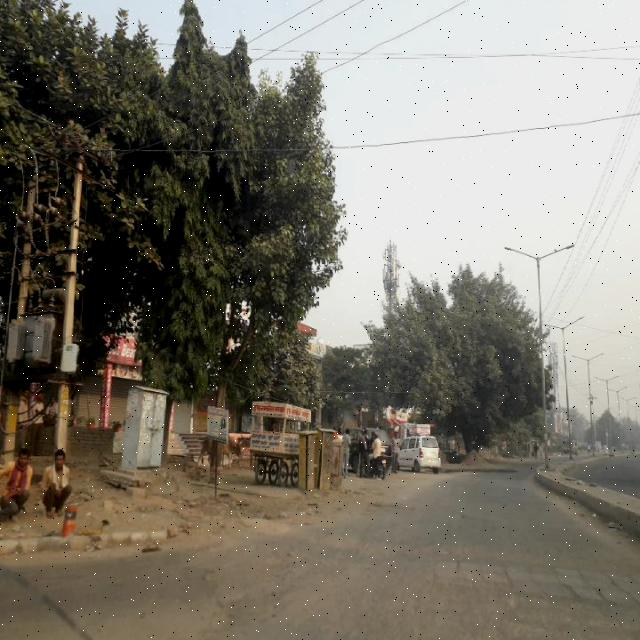D40: (196, 562, 252, 629)
